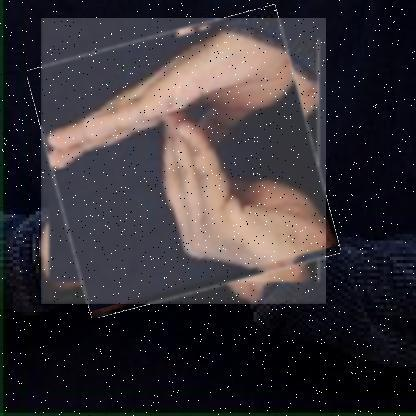Z: (40, 18, 326, 305)
